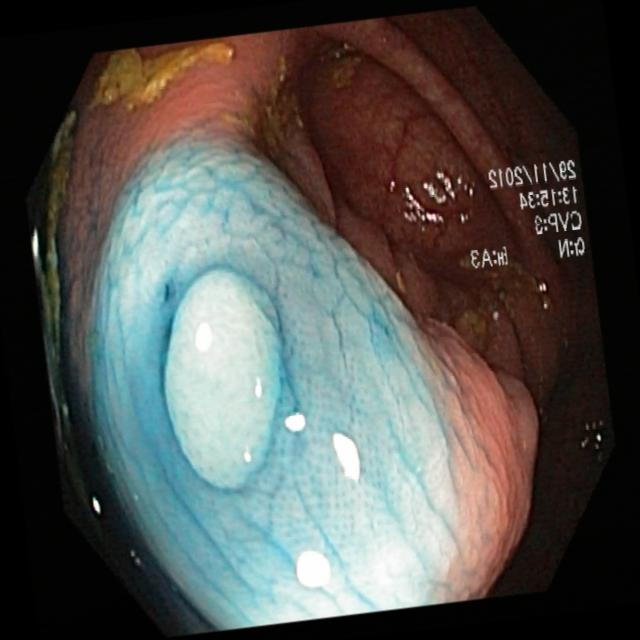dyed-lifted-polyps: (146, 248, 287, 502)
